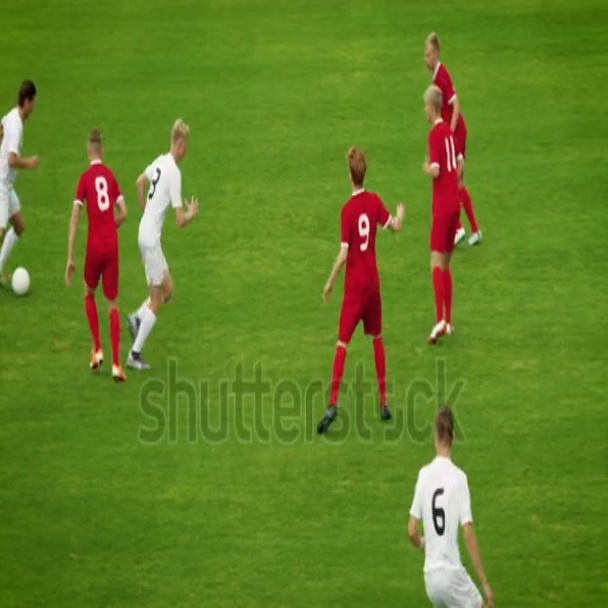ball: (11, 268, 33, 301)
